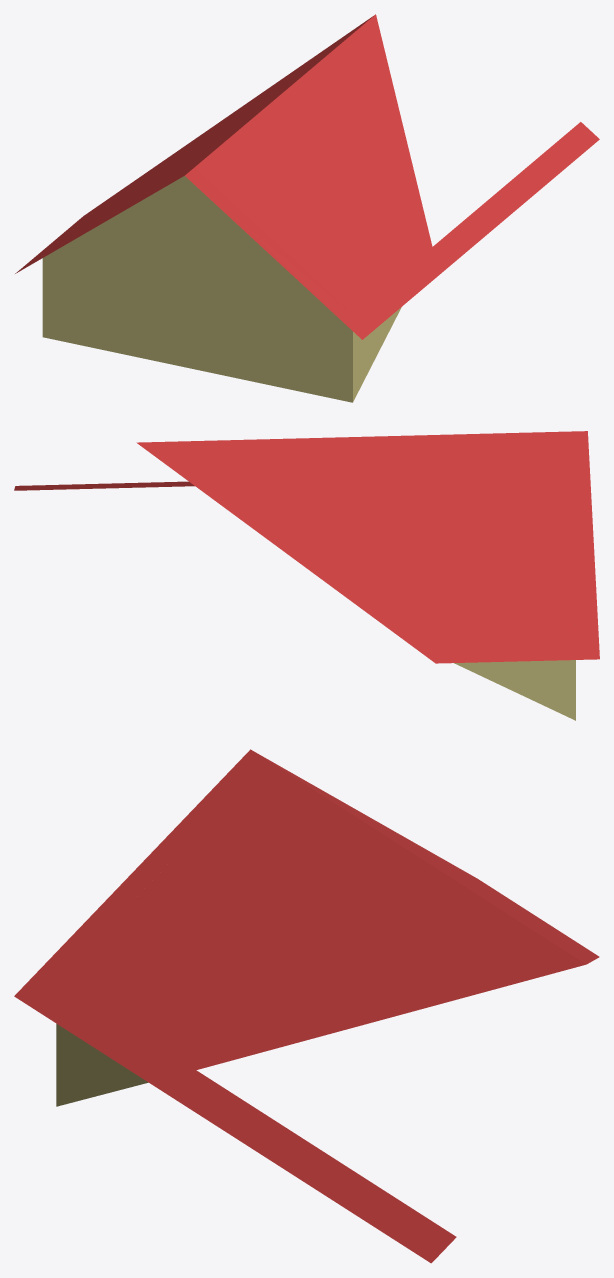
The picture shows the model from 3 angles, top to bottom: view 1: azimuth 30°, elevation 25°; view 2: azimuth 150°, elevation 25°; view 3: azimuth 270°, elevation 25°; orthographic projection. The views are drawn at different scales.
Size of the model in its own units: 15.38 by 9.6 by 5.2.
